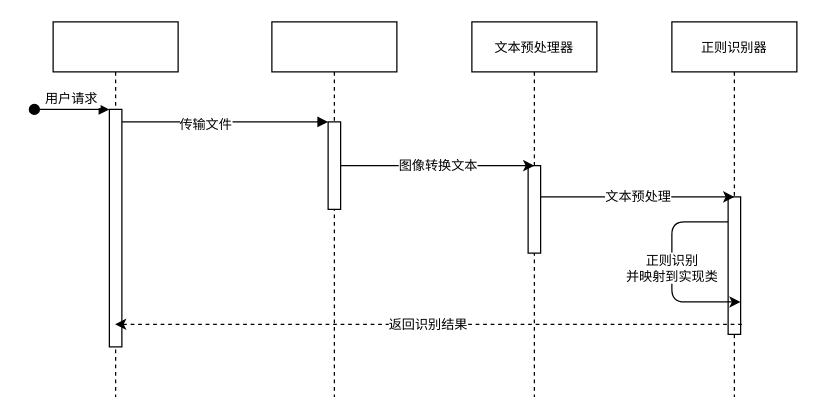
Image size: 819x419. Some labels were removed from this diagram. Here are the shapes that lost their labels. From the top down, the box of each, then its label:
(52, 21, 178, 397): 前端页面
(271, 21, 397, 397): OCR模块
